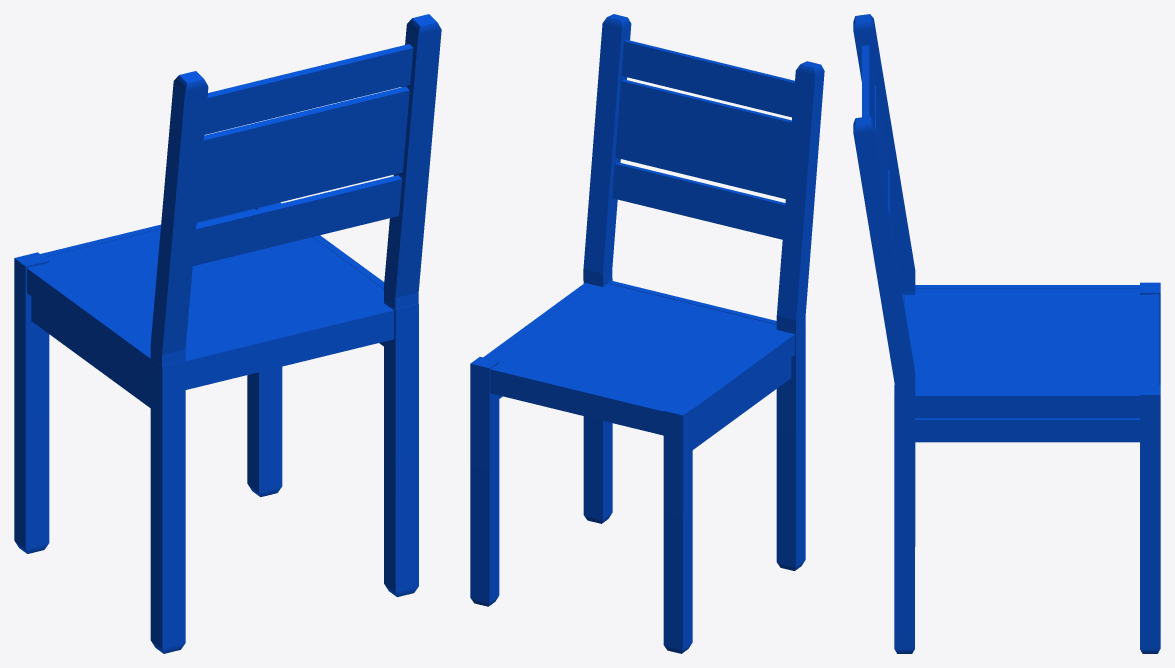
The model's file is Chair.fbx.
3 views of the same model, side by side, from view 1: azimuth 30°, elevation 25°; view 2: azimuth 150°, elevation 25°; view 3: azimuth 270°, elevation 25° (orthographic). The views are drawn at different scales.
Parts seen in each view (by area): view 1: Chair; view 2: Chair; view 3: Chair.
Part boxes in pixels (<box>): Chair: <box>14,14,441,653</box>; Chair: <box>470,14,824,653</box>; Chair: <box>853,14,1160,653</box>.
Bounding box in the file's own units: 295 × 648 × 340.
